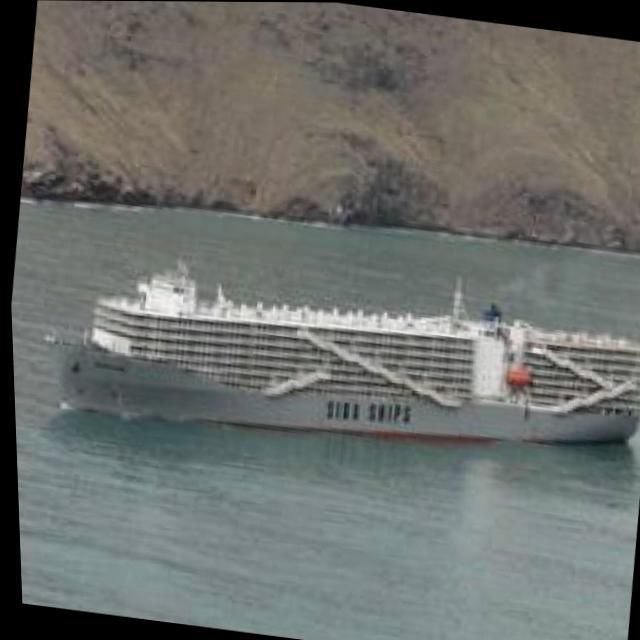ship2: (56, 275, 640, 450)
